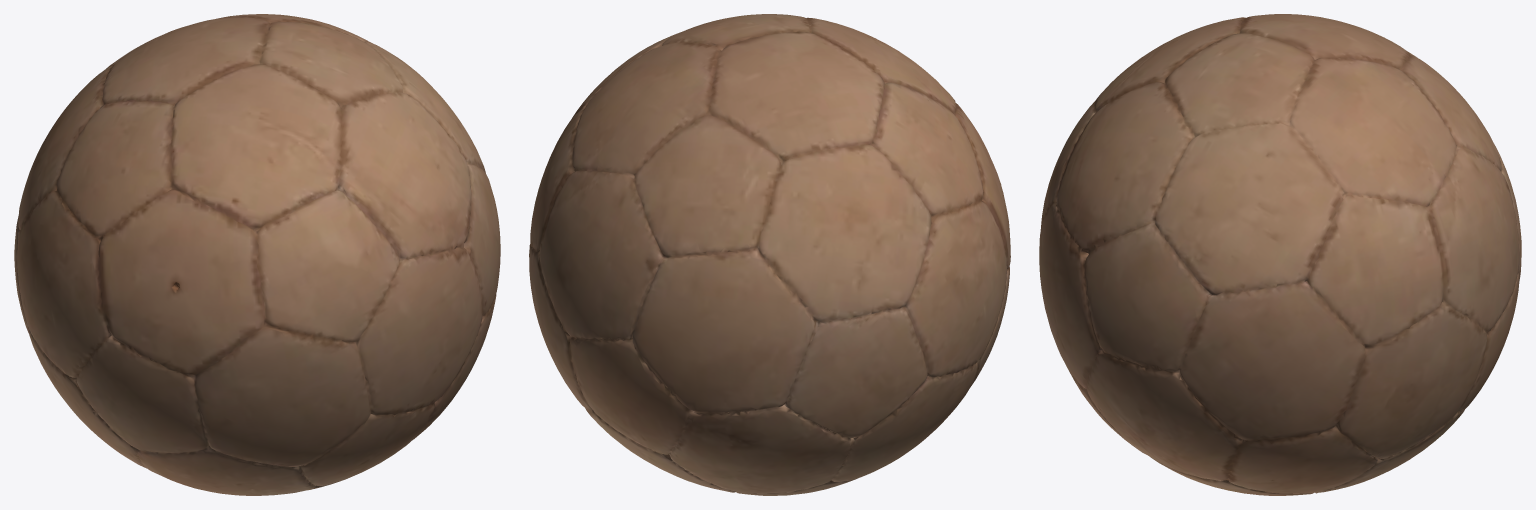
The model's file is football.glb.
3 renders of one model, left to right at view 1: azimuth 30°, elevation 25°; view 2: azimuth 150°, elevation 25°; view 3: azimuth 270°, elevation 25°, orthographic.
Parts seen in each view (by area): view 1: dirty_football; view 2: dirty_football; view 3: dirty_football.
Boxes of the visible parts, box(x1,y1,x2,y2) form: dirty_football: box(14, 14, 500, 495); dirty_football: box(529, 14, 1010, 495); dirty_football: box(1039, 14, 1521, 495).
Bounding box in the file's own units: 0.2214 × 0.22 × 0.22.
1 material, 1 textured.
